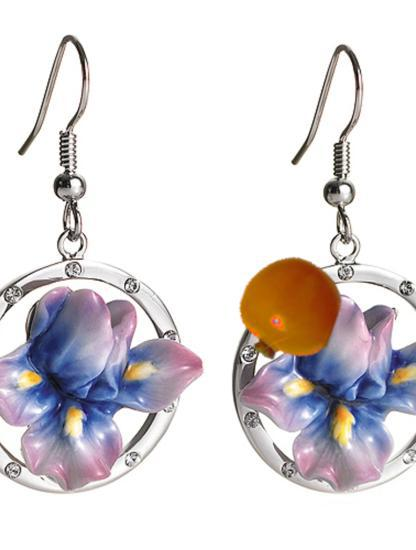Physalis: (235, 255, 344, 364)
